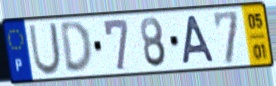7: (210, 9, 240, 66), (101, 18, 131, 72)
8: (138, 15, 167, 70)
A: (181, 14, 217, 67)
D: (58, 19, 95, 76)
U: (27, 21, 63, 77)
